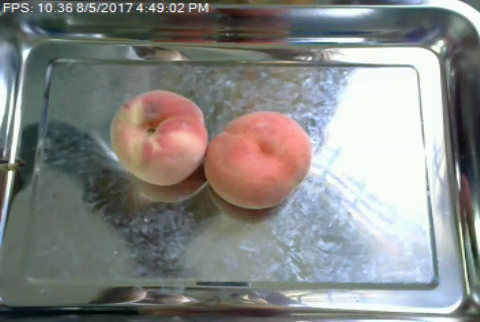Peach: (203, 111, 312, 208), (109, 88, 208, 187)
